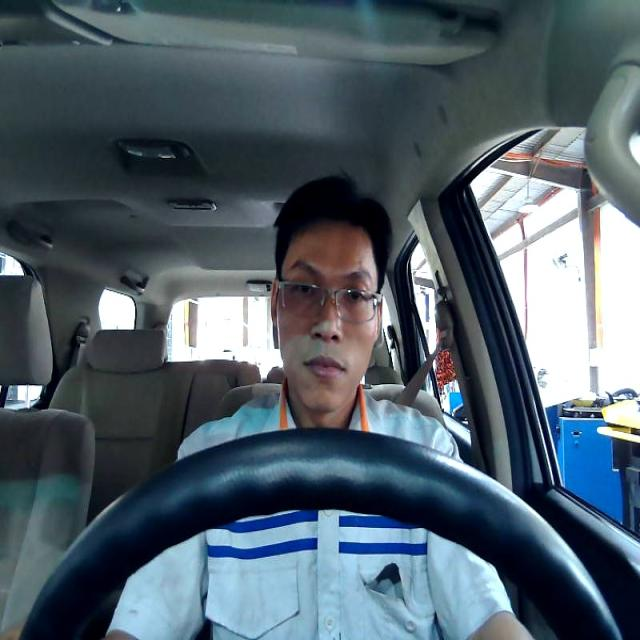focused: (270, 221, 382, 413)
